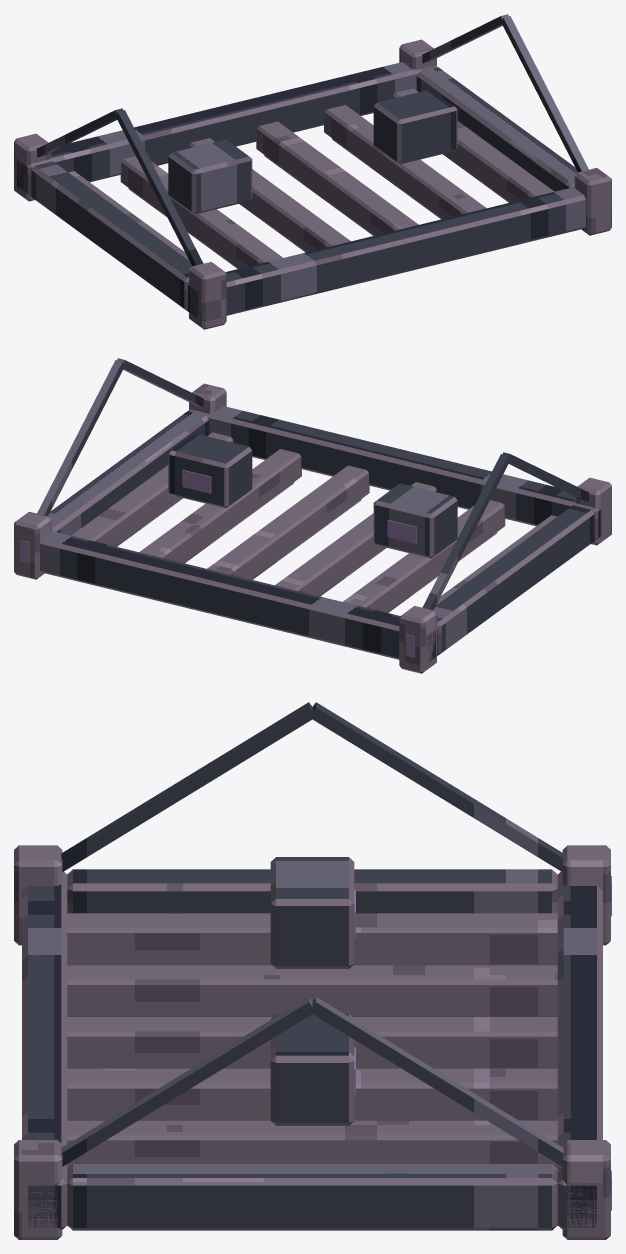
File: placed_uv_panel_6.obj
The picture shows the model from 3 angles, top to bottom: view 1: azimuth 30°, elevation 25°; view 2: azimuth 150°, elevation 25°; view 3: azimuth 270°, elevation 25°; orthographic projection. The views are drawn at different scales.
Parts seen in each view (by area): view 1: model; view 2: model; view 3: model.
Part boxes in pixels (x1=…): model: x1=14, y1=14, x2=611, y2=329; model: x1=14, y1=358, x2=611, y2=673; model: x1=14, y1=702, x2=611, y2=1239.
Size of the model in its own units: 1.44 by 0.5216 by 1.16.
